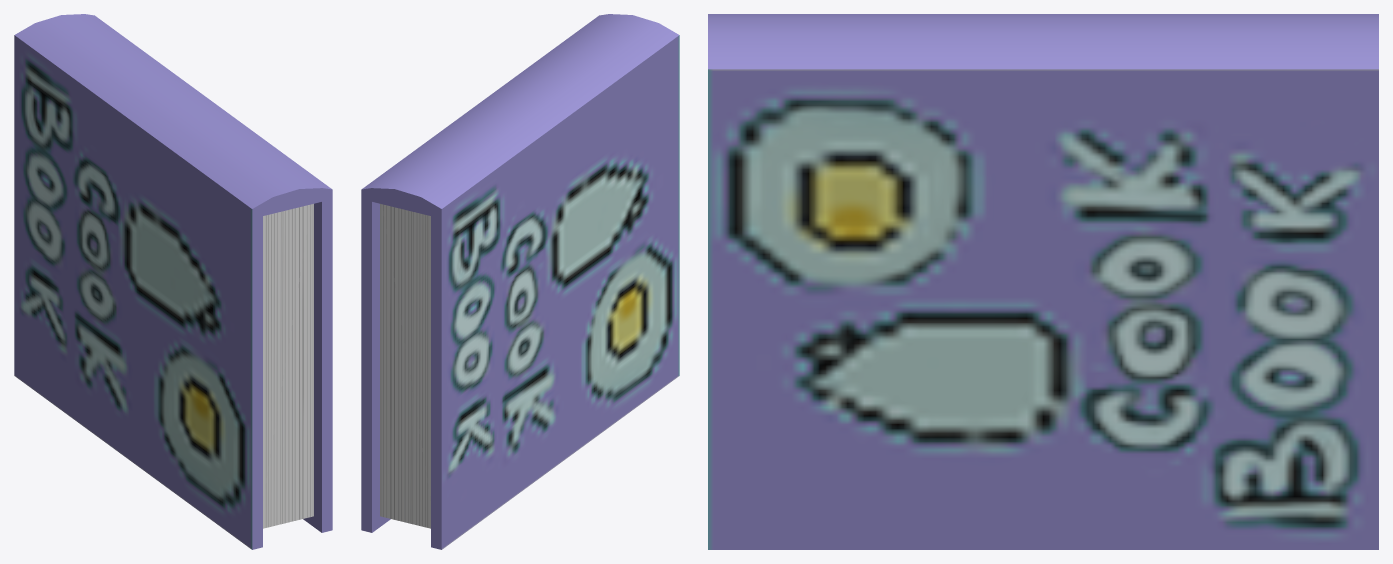
Rendered from book3.fbx.
3 renders of one model, left to right at view 1: azimuth 30°, elevation 25°; view 2: azimuth 150°, elevation 25°; view 3: azimuth 270°, elevation 25°, orthographic. The views are drawn at different scales.
Parts seen in each view (by area): view 1: book3; view 2: book3; view 3: book3.
Boxes of the visible parts, x1=… form: book3: x1=14, y1=14, x2=332, y2=549; book3: x1=361, y1=14, x2=679, y2=549; book3: x1=708, y1=14, x2=1378, y2=549.
Bounding box in the file's own units: 1.21 × 6.21 × 5.03.
Materials: 1 (1 with a texture image).
